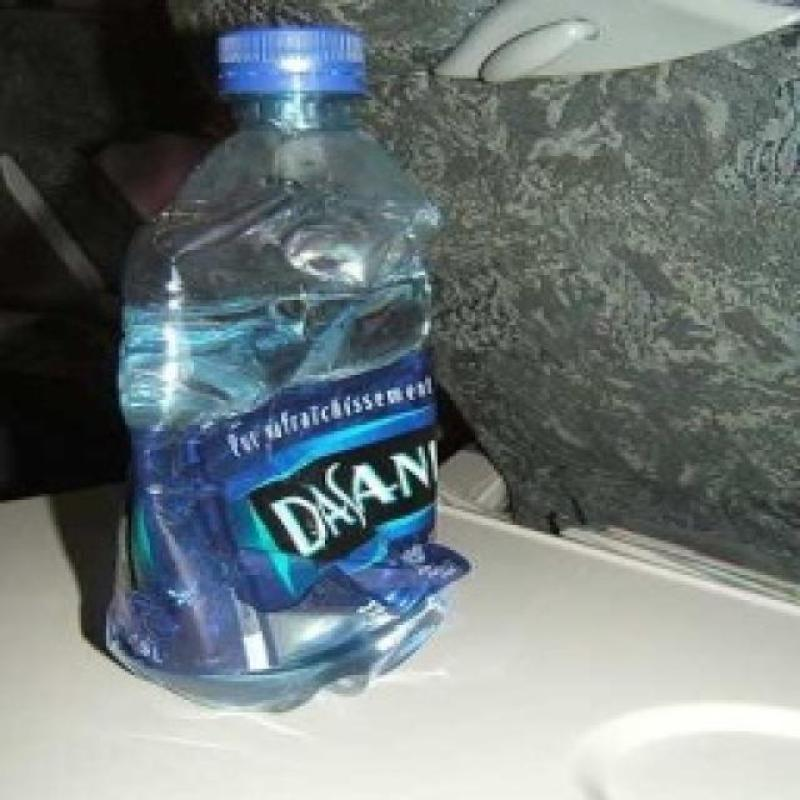botella: (98, 28, 473, 722)
